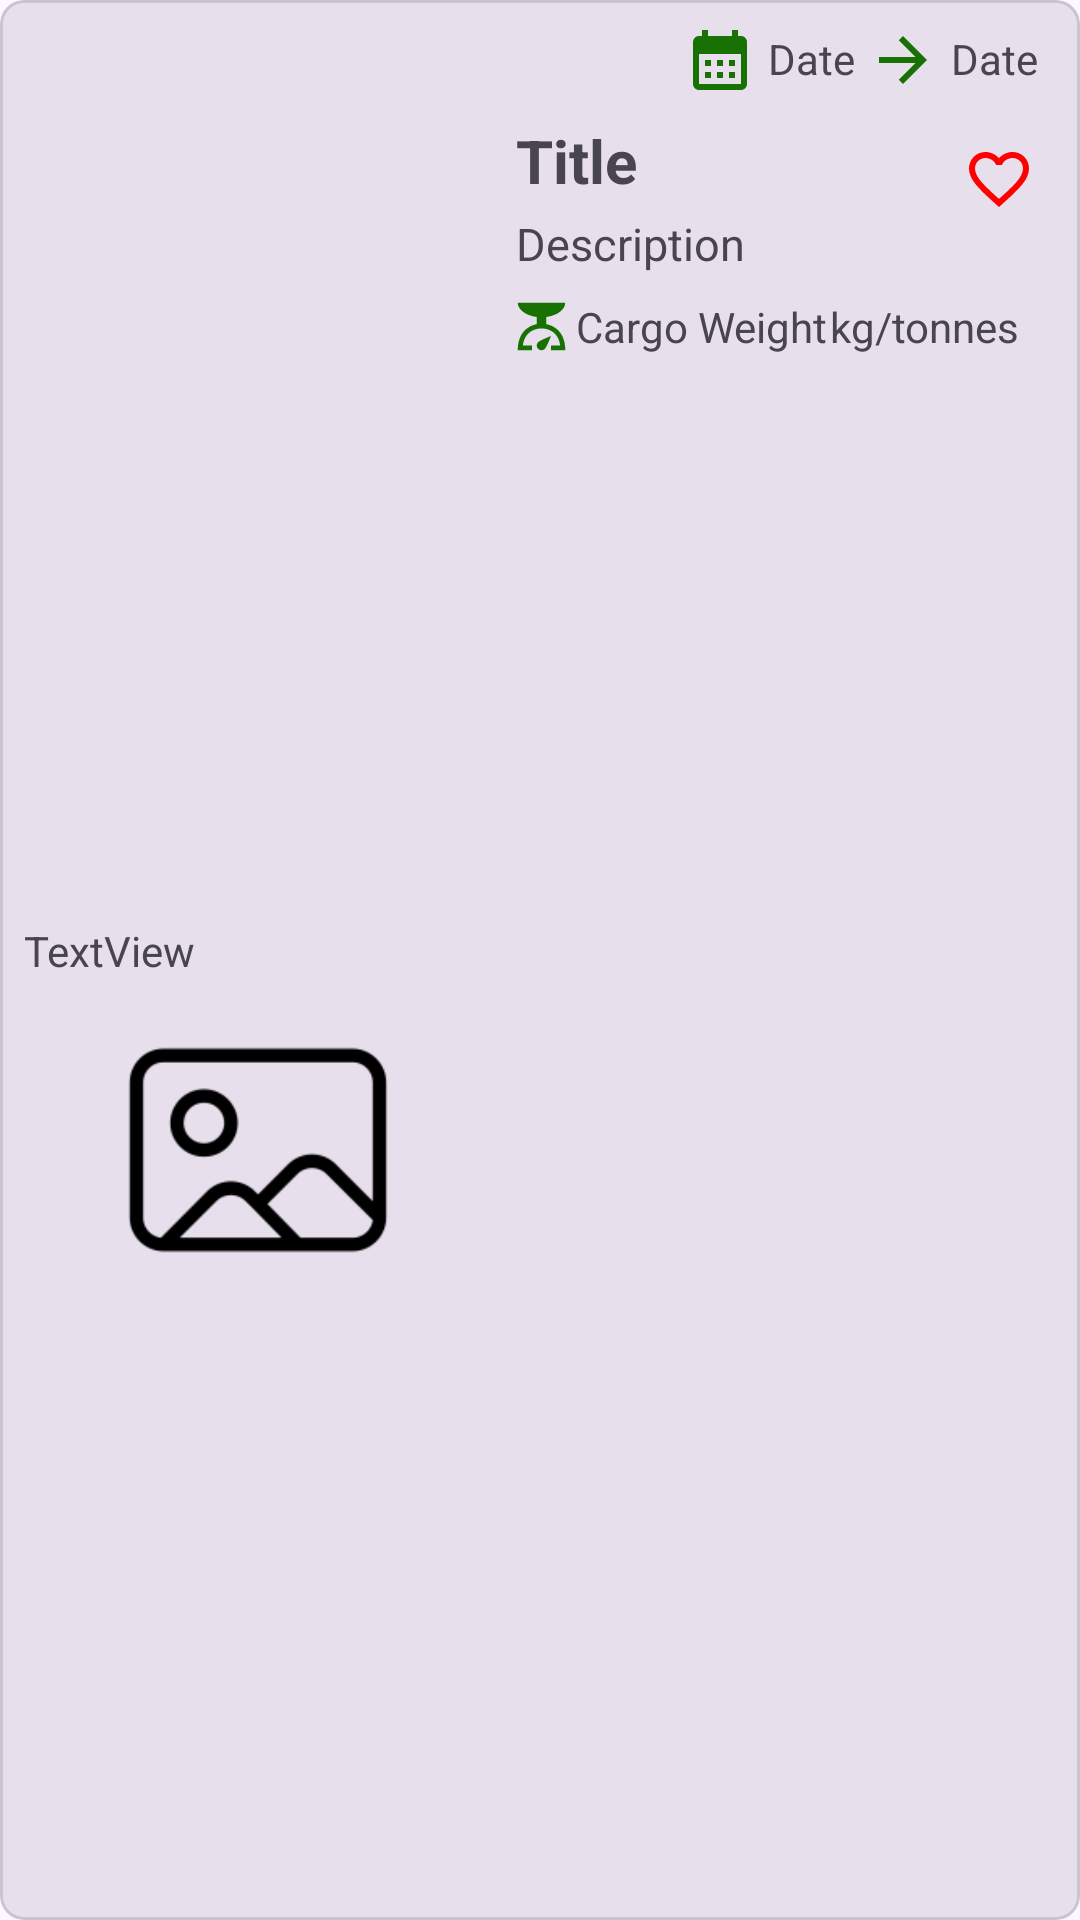

Icons on this 1080×1920 Android screen, each with the point to tap as point (x, y):
arrow forward: point (903, 60)
calendar month: point (720, 60)
favorite border: point (999, 179)
scale: point (541, 326)
